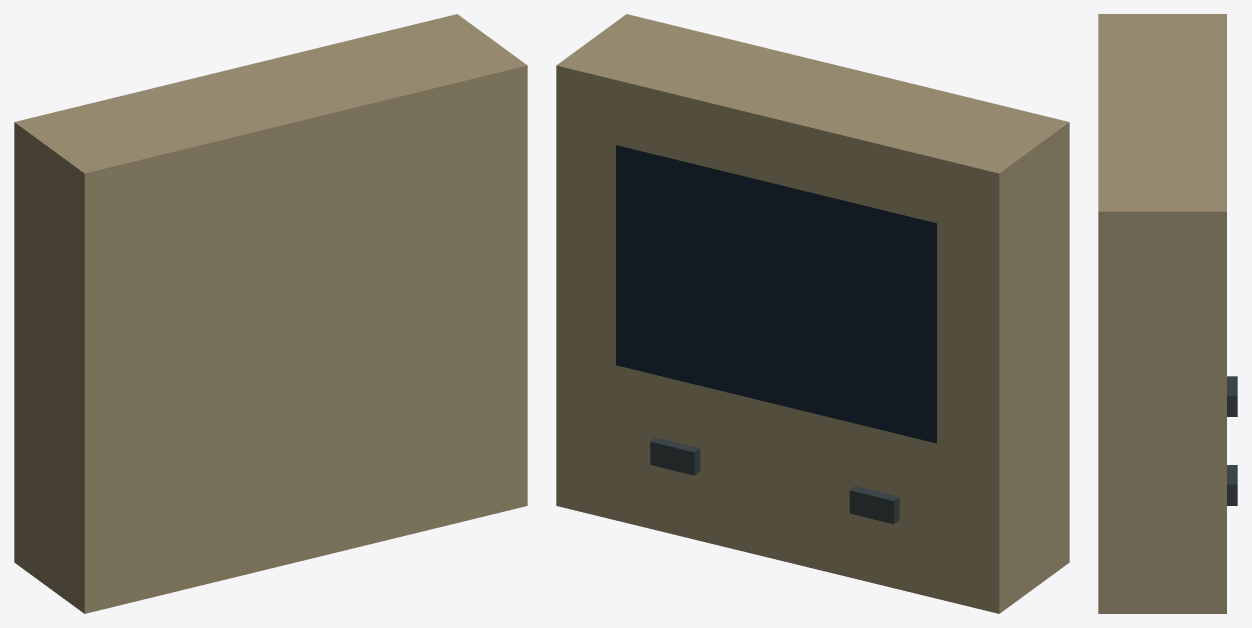
The model's file is stability_device.obj.
3 views of the same model, side by side, from view 1: azimuth 30°, elevation 25°; view 2: azimuth 150°, elevation 25°; view 3: azimuth 270°, elevation 25° (orthographic). The views are drawn at different scales.
Parts seen in each view (by area): view 1: casing; view 2: casing, runtime_stability, indicator; view 3: casing, indicator.
Boxes of the visible parts, x1,y1,x2,y2 form: casing: (14,14,527,613); casing: (556,14,1069,613); runtime_stability: (616,145,936,443); indicator: (650,437,899,524); casing: (1098,14,1226,613); indicator: (1227,376,1237,505).
Bounding box in the file's own units: 0.4 × 0.38 × 0.119.
